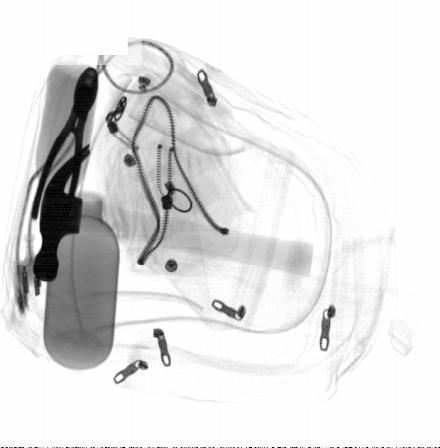Hammer: (32, 143, 314, 283)
Pliers: (31, 67, 99, 221)
